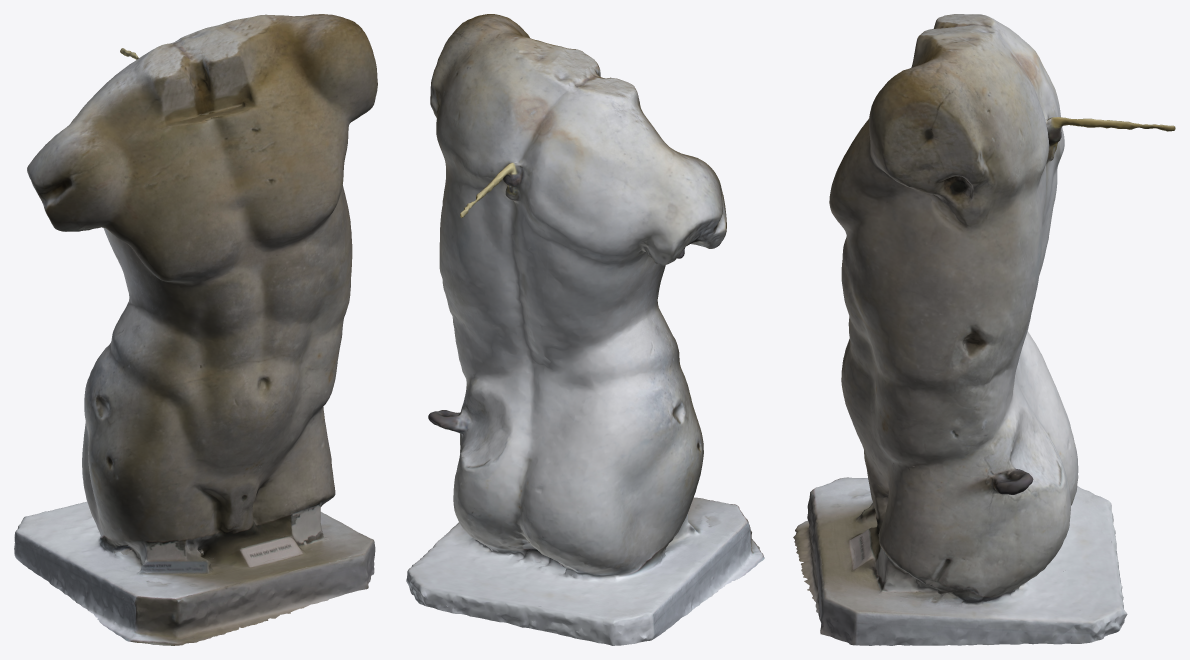
The model's file is statue_of_male_figure.glb.
The picture shows the model from 3 angles, left to right: view 1: azimuth 30°, elevation 25°; view 2: azimuth 150°, elevation 25°; view 3: azimuth 270°, elevation 25°; orthographic projection. The views are drawn at different scales.
Parts seen in each view (by area): view 1: Object_2; view 2: Object_2; view 3: Object_2.
Part boxes in pixels (x1,y1,x2,y2): Object_2: (14, 14, 377, 645); Object_2: (406, 14, 764, 645); Object_2: (793, 14, 1175, 645).
Size of the model in its own units: 3.99 by 6.73 by 4.09.
Materials: 1 (1 with a texture image).
